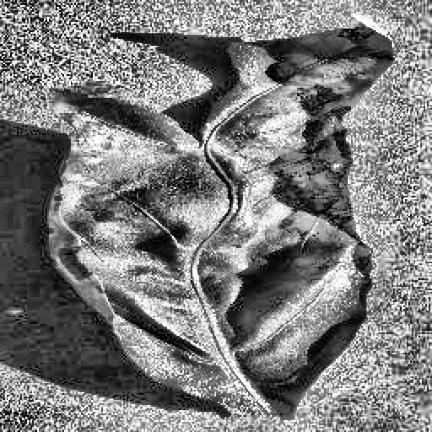leaf: (46, 15, 390, 417)
